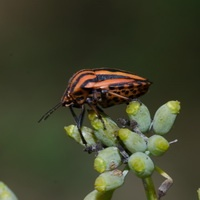insect: (38, 68, 150, 144)
